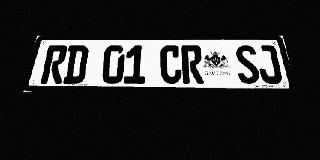0: (101, 45, 125, 84)
1: (123, 45, 146, 84)
C: (160, 45, 182, 84)
D: (62, 45, 89, 84)
J: (255, 45, 283, 84)
R: (40, 45, 68, 84), (181, 45, 204, 84)
S: (234, 45, 261, 84)
